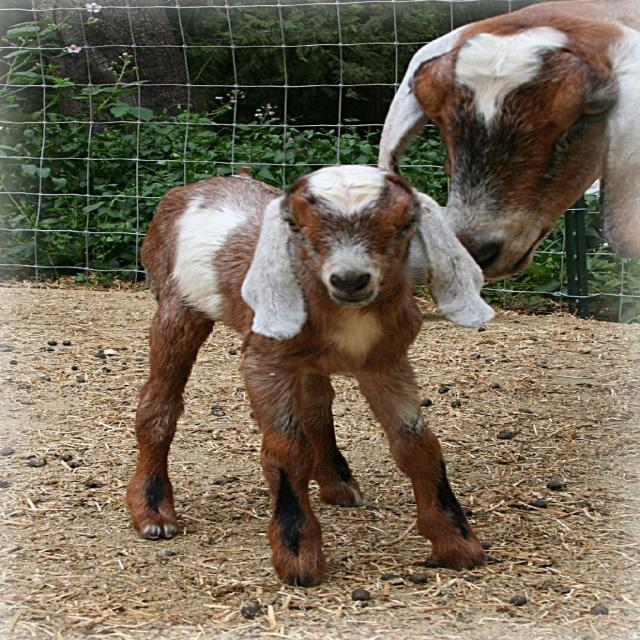Goat: (123, 164, 502, 589), (369, 0, 639, 276)
